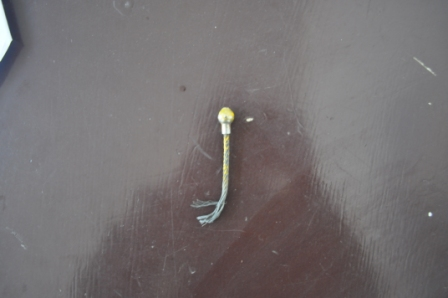METAL WIRE: (195, 108, 236, 230)
